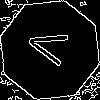V: (25, 25, 78, 69)
